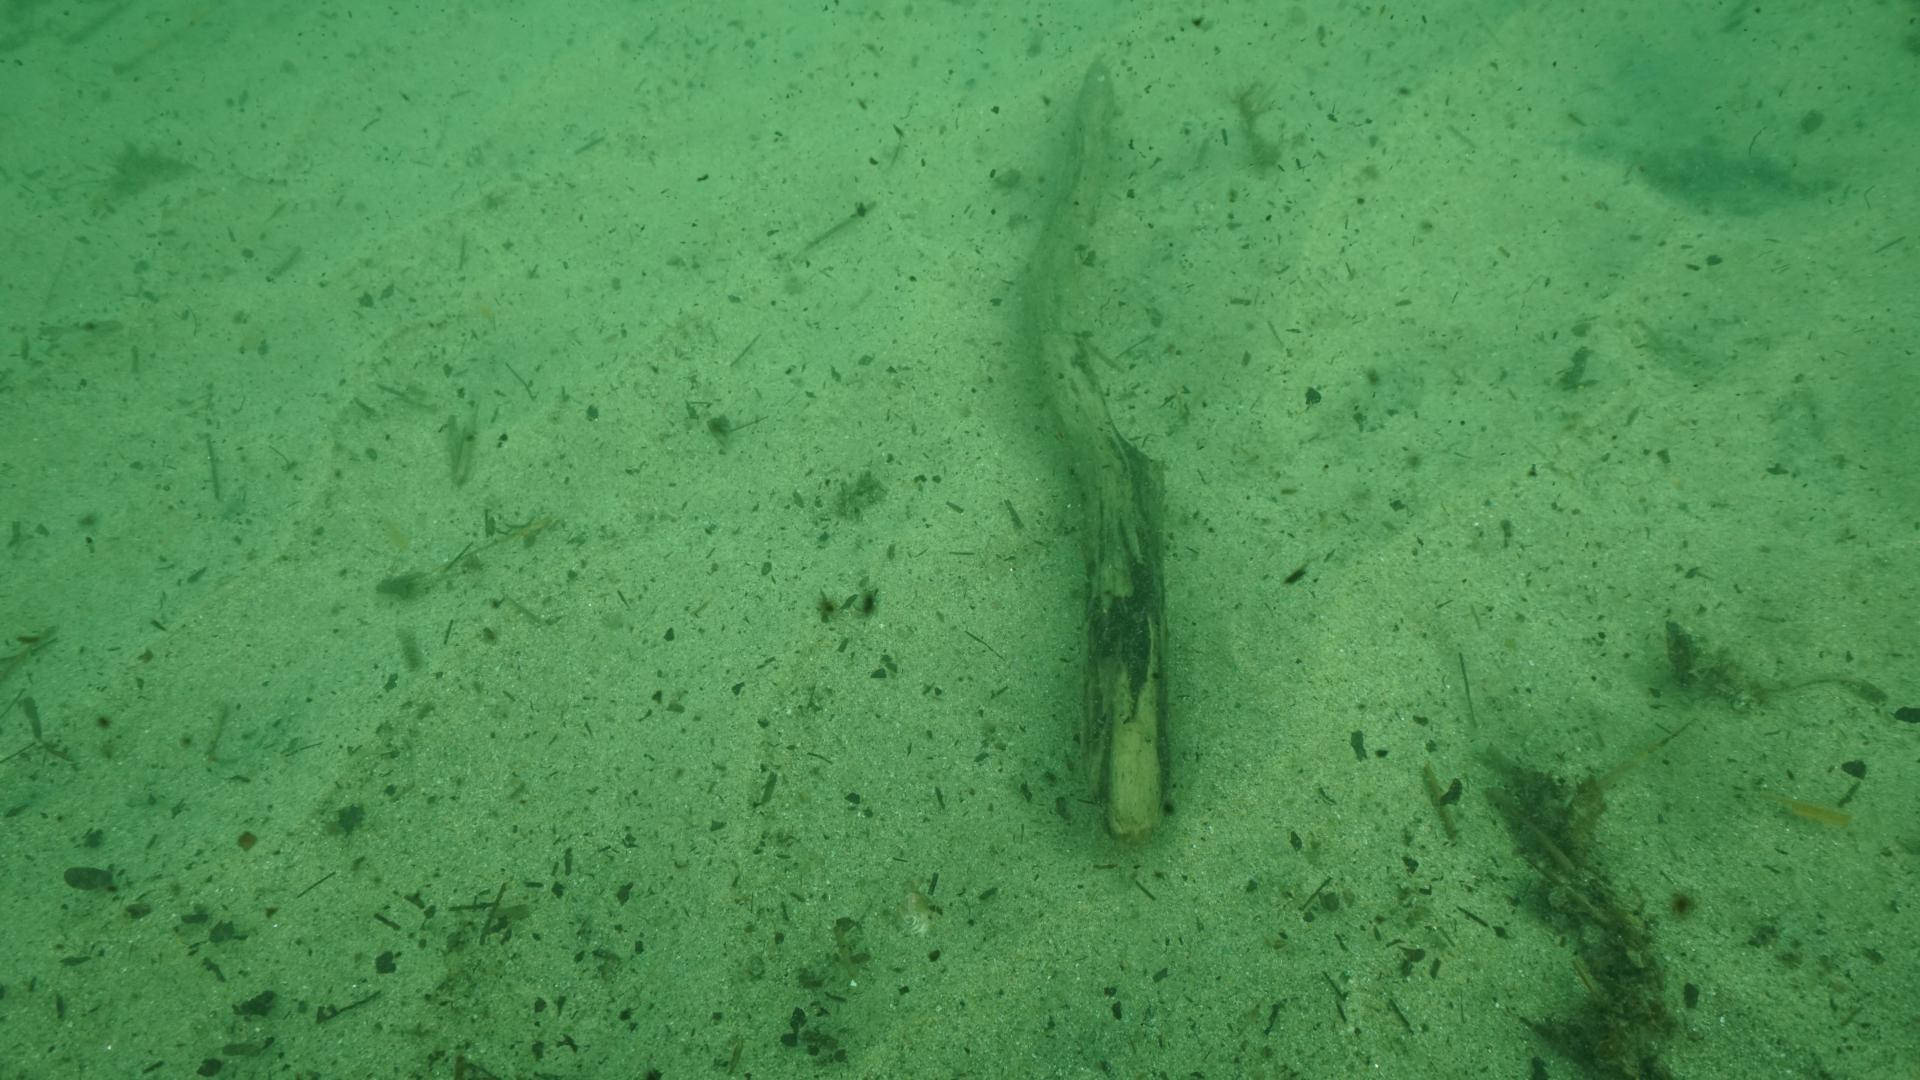wood: (1004, 61, 1164, 837)
